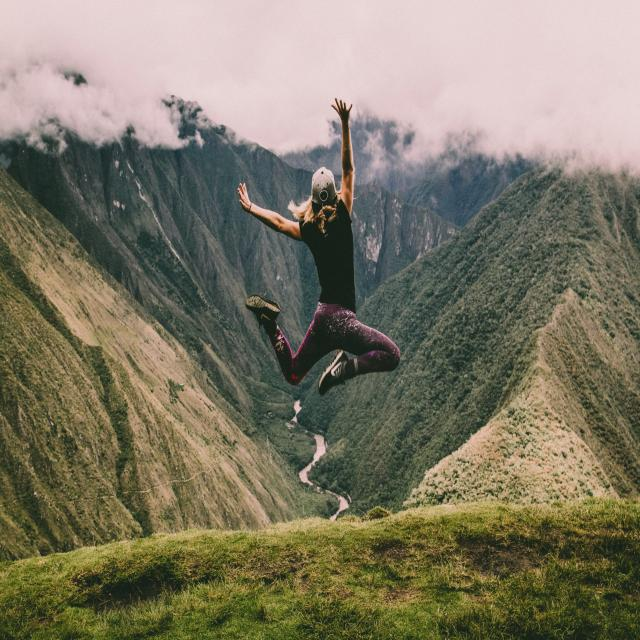adult: (237, 98, 401, 394)
